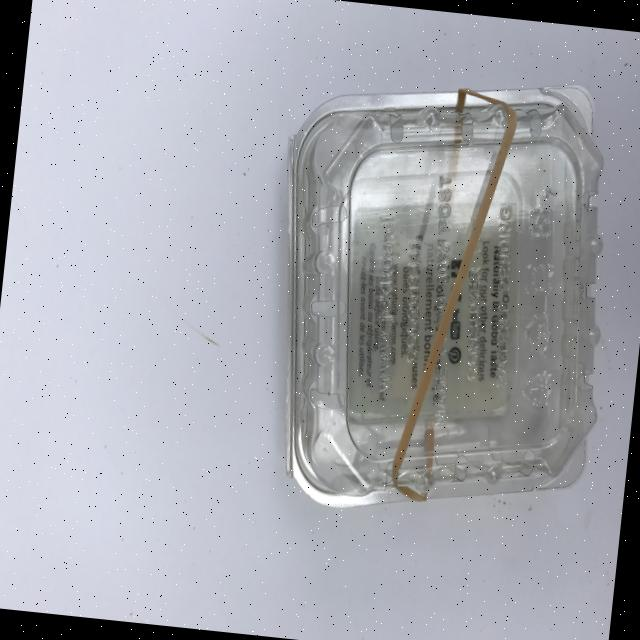plastic: (251, 56, 630, 532)
